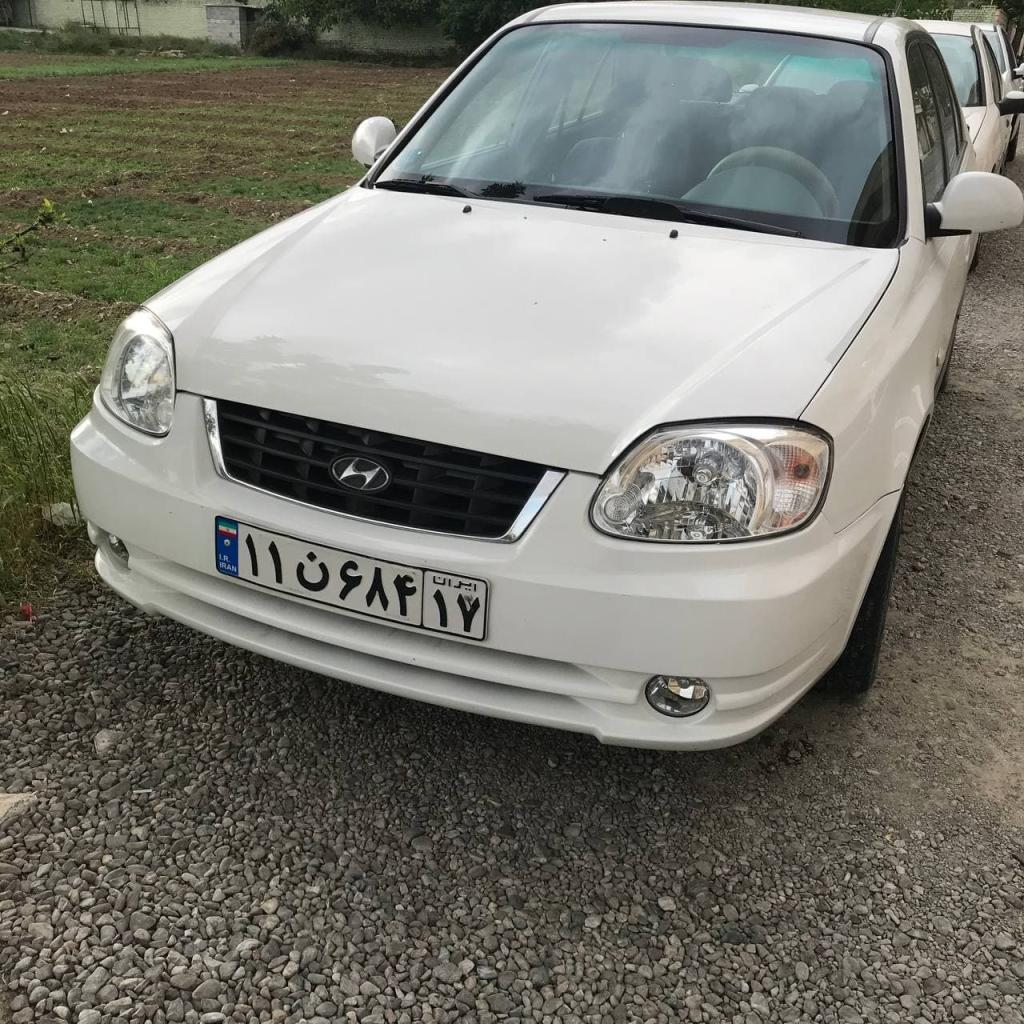Plates: (215, 517, 485, 639)
